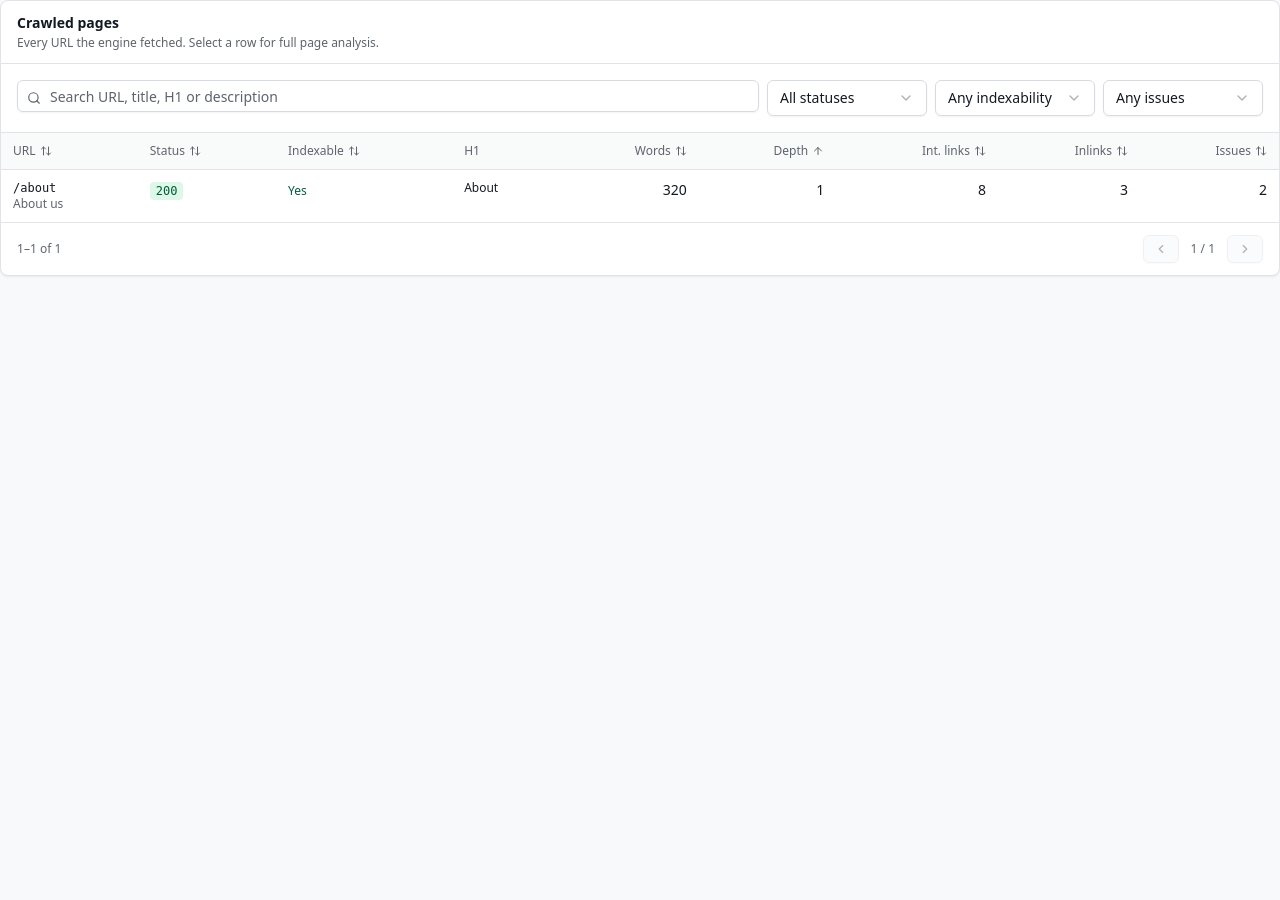
Scenario: page analysis › lazy-loads page details when a row is selected
Click the text "/about": (35, 188) [13,181,56,195]
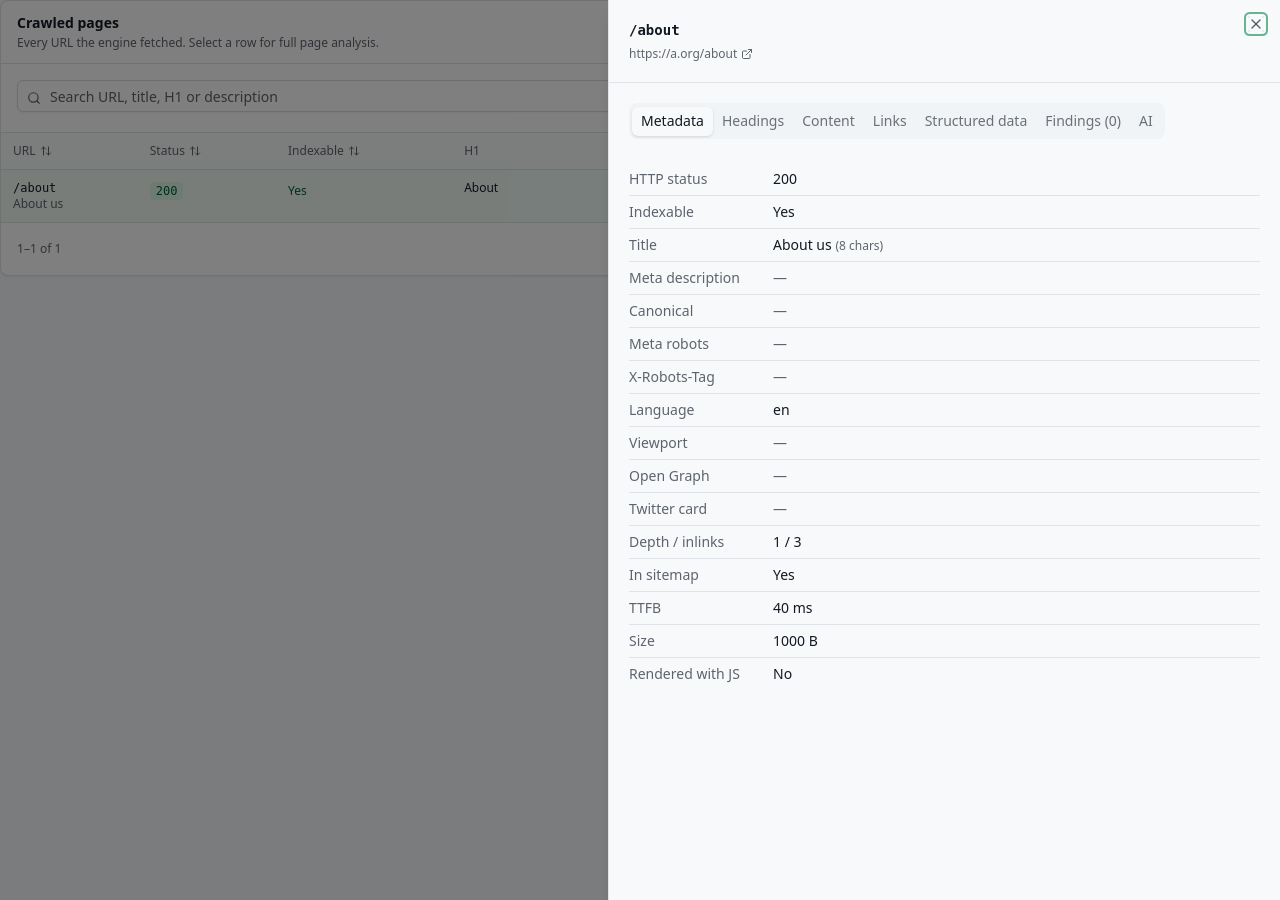
Result: the tab "Metadata" is shown at [632,106,713,136]
